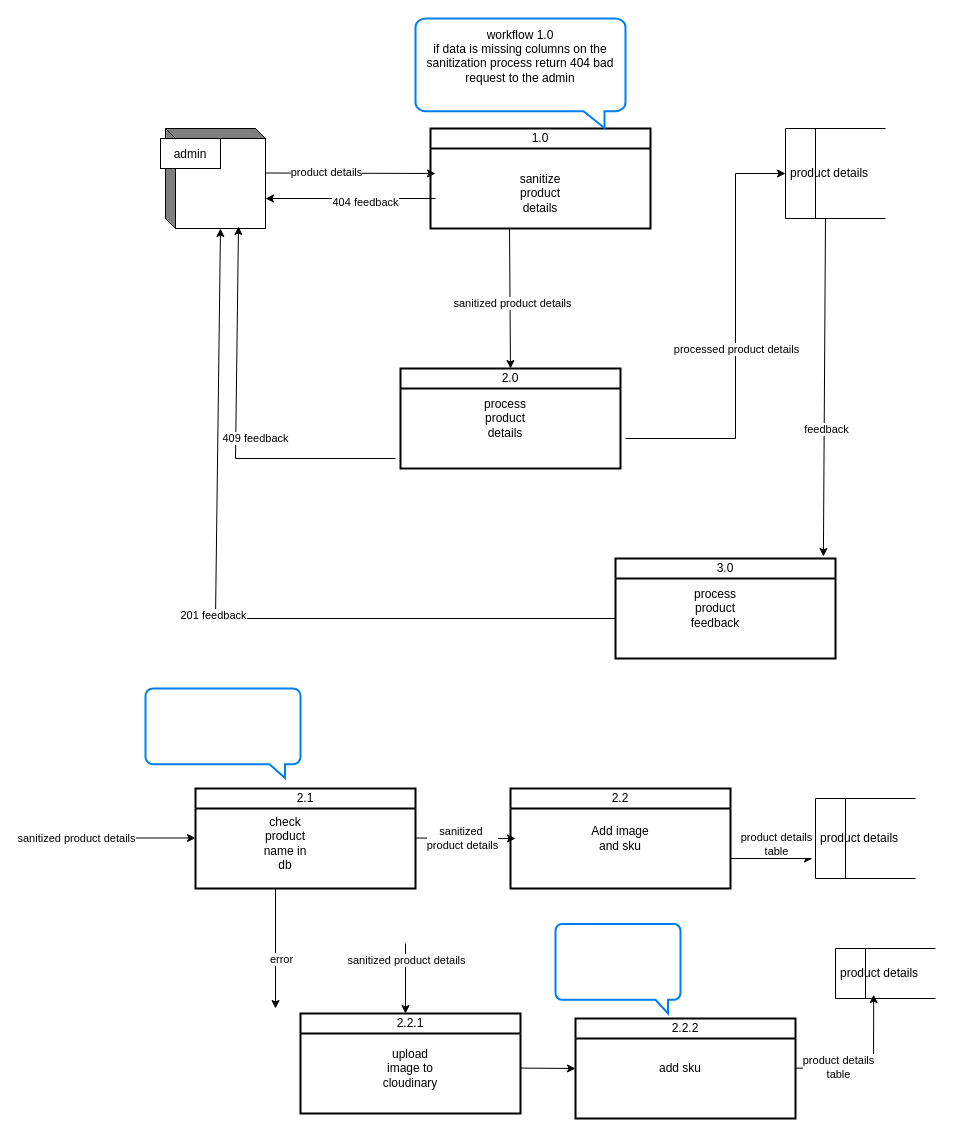
The diagram is 953 pixels wide and 1136 high, and some of its shapes have lost their labels. The shapes that lost their labels are listed below. From the top down, each one's centre as x and y in pixels, then its label:
the point at 222,732: check if product name exists in the db and return 304 if it does
the point at 617,968: Add sku which is system generated,
